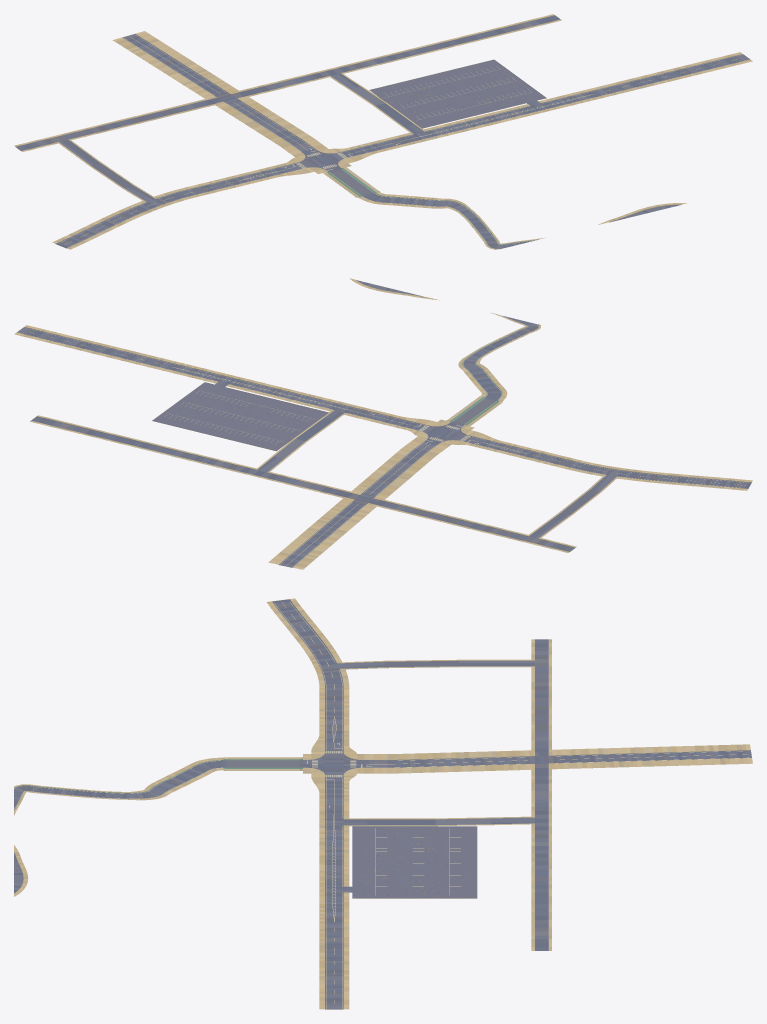
Rendered from ART_KyobashiRoads.glb.
The picture shows the model from 3 angles, top to bottom: view 1: azimuth 30°, elevation 25°; view 2: azimuth 150°, elevation 25°; view 3: azimuth 270°, elevation 25°; orthographic projection. The views are drawn at different scales.
Visible parts, largest first — view 1: ART_KyobashiRoads; view 2: ART_KyobashiRoads; view 3: ART_KyobashiRoads.
Boxes of the visible parts, x1,y1,x2,y2 form: ART_KyobashiRoads: (14, 14, 752, 249); ART_KyobashiRoads: (14, 278, 752, 569); ART_KyobashiRoads: (14, 598, 752, 1009).
Bounding box in the file's own units: 422 × 0.1965 × 321.
